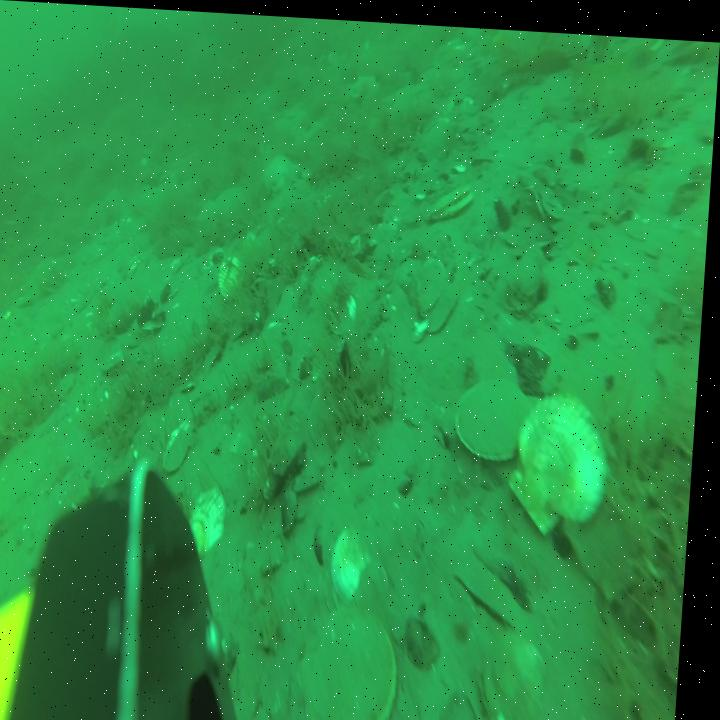scallop: (513, 387, 617, 528), (302, 594, 410, 720), (456, 374, 543, 461), (497, 622, 559, 716), (337, 520, 399, 599), (195, 488, 232, 555), (363, 554, 403, 611), (168, 412, 205, 470), (426, 176, 477, 217), (430, 276, 463, 330), (223, 252, 251, 303), (423, 249, 448, 305), (0, 433, 5, 496)
starfish: (263, 145, 306, 190), (350, 69, 384, 105)
